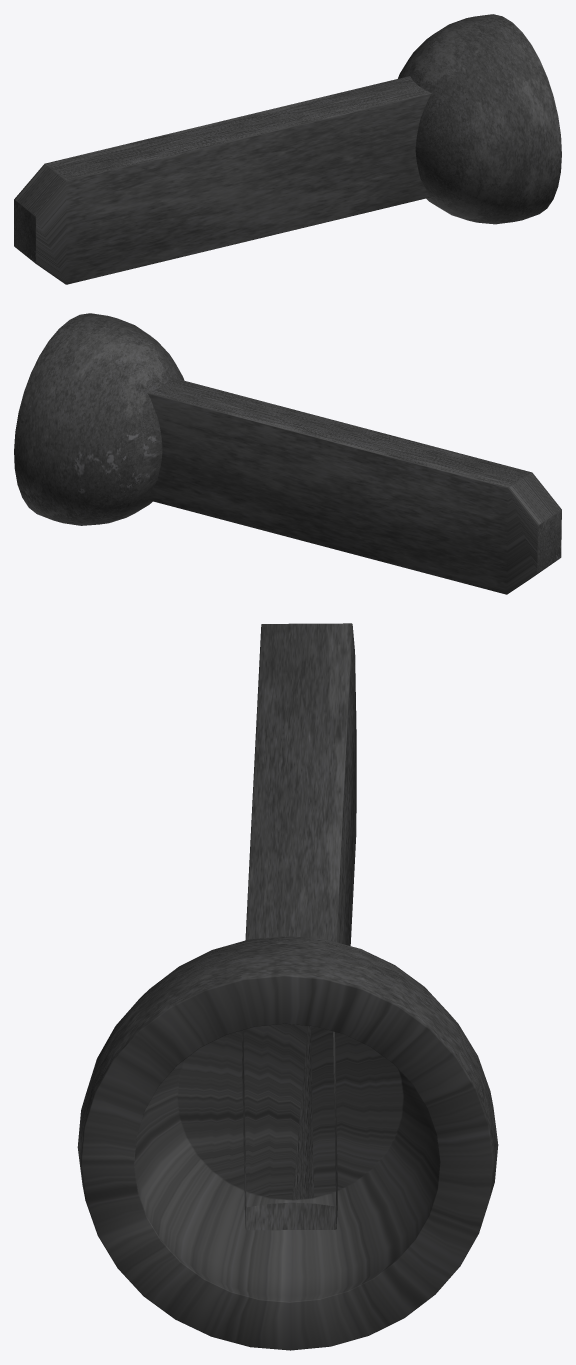
Rendered from Brazo01T.obj.
3 views of the same model, one above another, from view 1: azimuth 30°, elevation 25°; view 2: azimuth 150°, elevation 25°; view 3: azimuth 270°, elevation 25° (orthographic). The views are drawn at different scales.
Visible parts, largest first — view 1: Object_6_llanta; view 2: Object_6_llanta; view 3: Object_6_llanta.
Part boxes in pixels (x1,y1,x2,y2): Object_6_llanta: [14, 14, 561, 284]; Object_6_llanta: [14, 313, 561, 594]; Object_6_llanta: [77, 623, 498, 1350].
Bounding box in the file's own units: 1.62 × 0.6077 × 0.6075.
